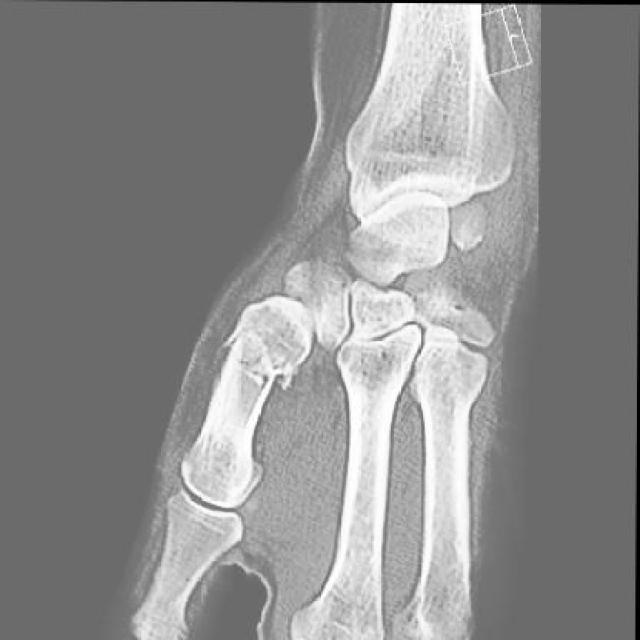Fracture: (218, 316, 306, 398)
